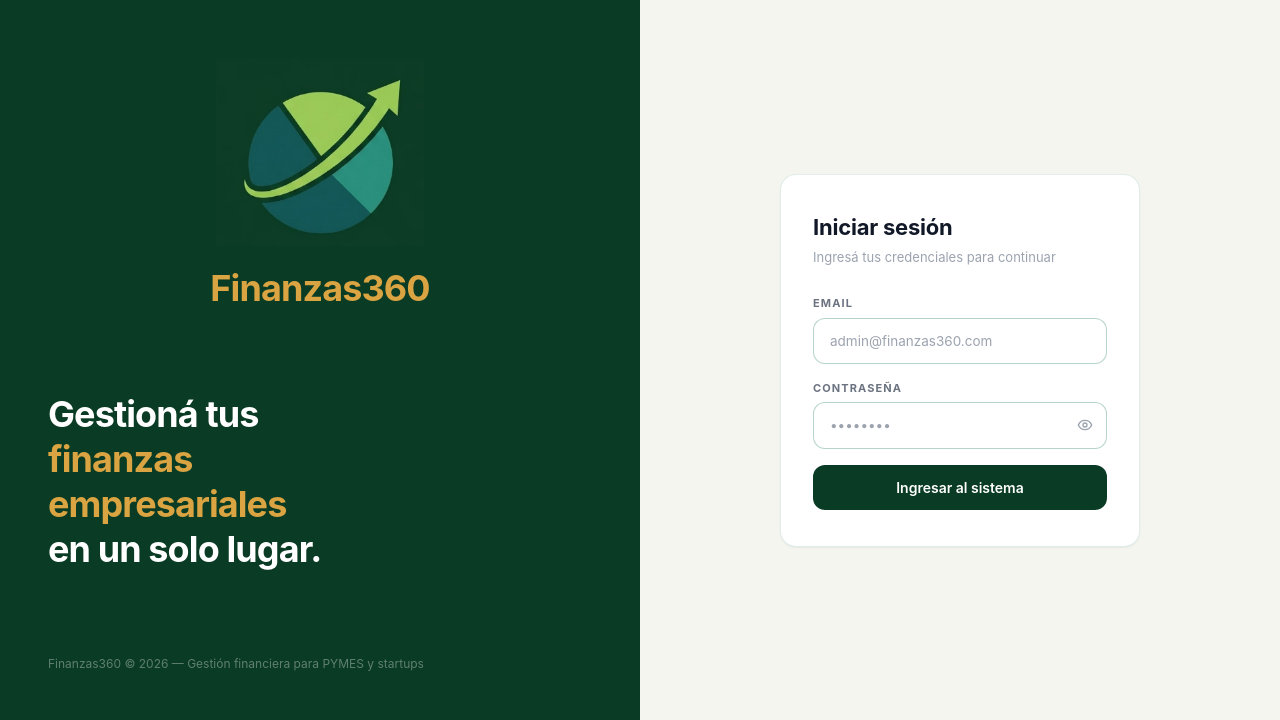
Test: Autenticación — Login › email con formato inválido muestra error de validación
Type "no-es-un-email" into the field with placeholder "admin@finanzas360.com".
click(960, 341); type("no-es-un-email")  # box [813,318,1107,364]
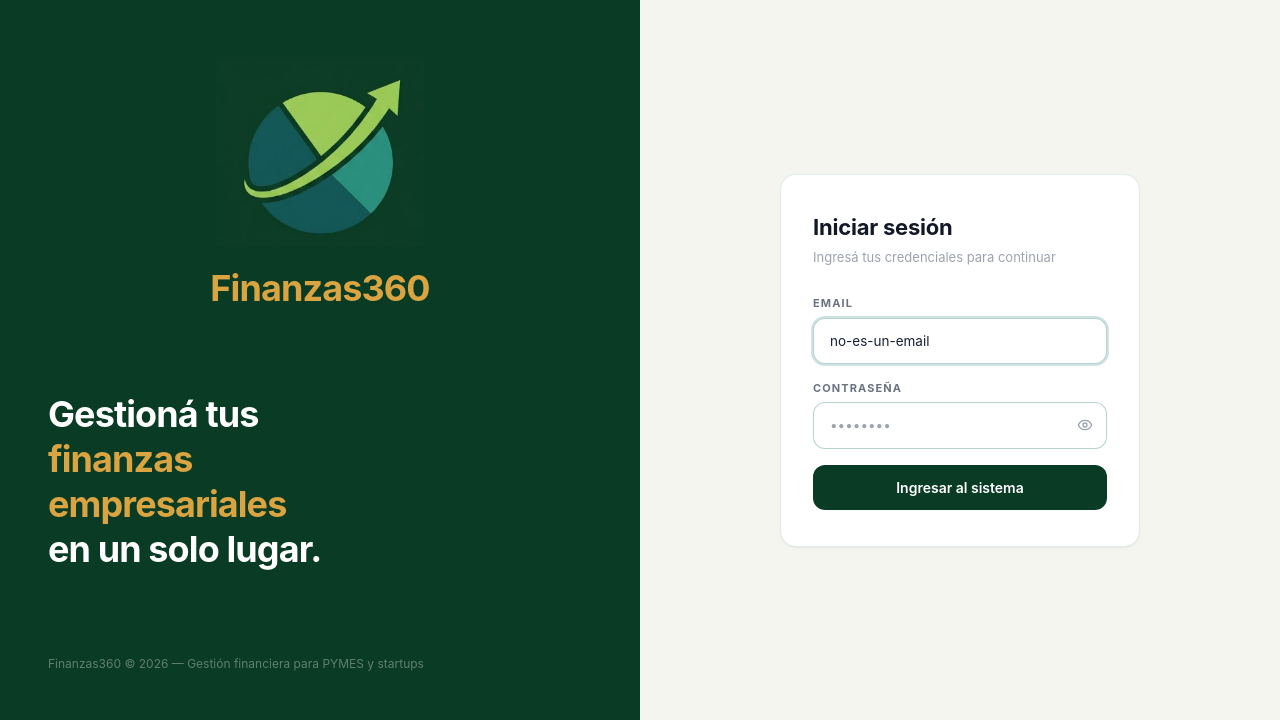
Click the button "Ingresar al sistema".
click(960, 488)  # box [813,465,1107,510]
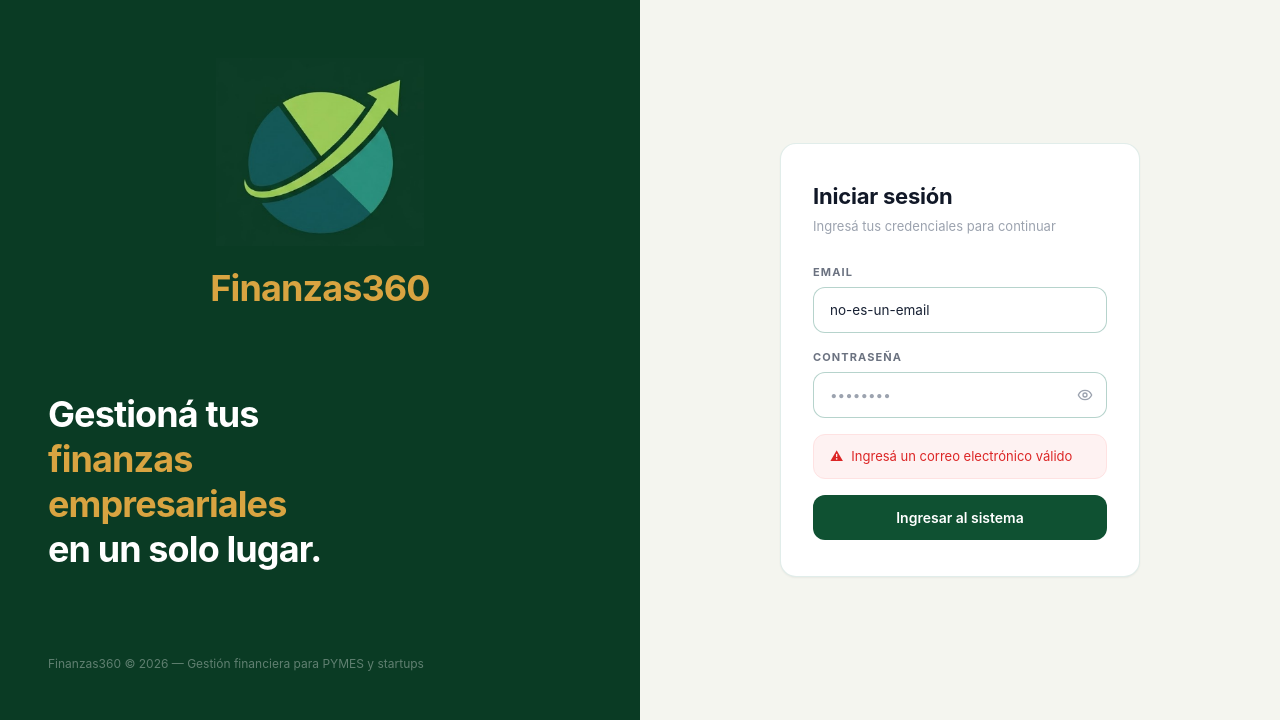
Result: the text "Ingresá un correo electrónico válido" is shown at [851,447,1090,466]
